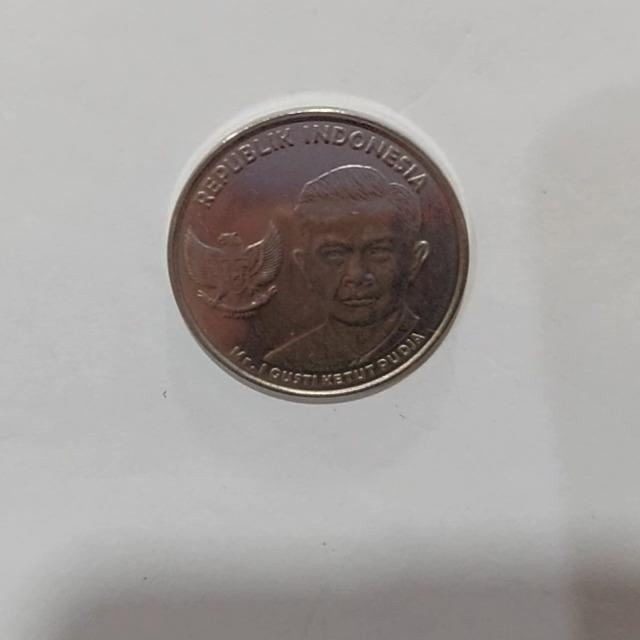Rp100: (166, 100, 471, 402)
